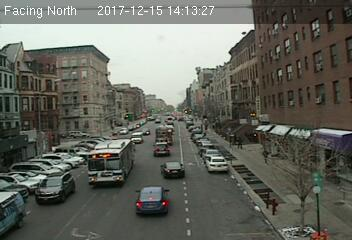bus: (87, 139, 134, 186)
car: (34, 172, 75, 204), (135, 185, 172, 215), (159, 161, 184, 178), (205, 156, 229, 172), (152, 143, 171, 156)
truck: (1, 187, 26, 236), (154, 127, 173, 144)
